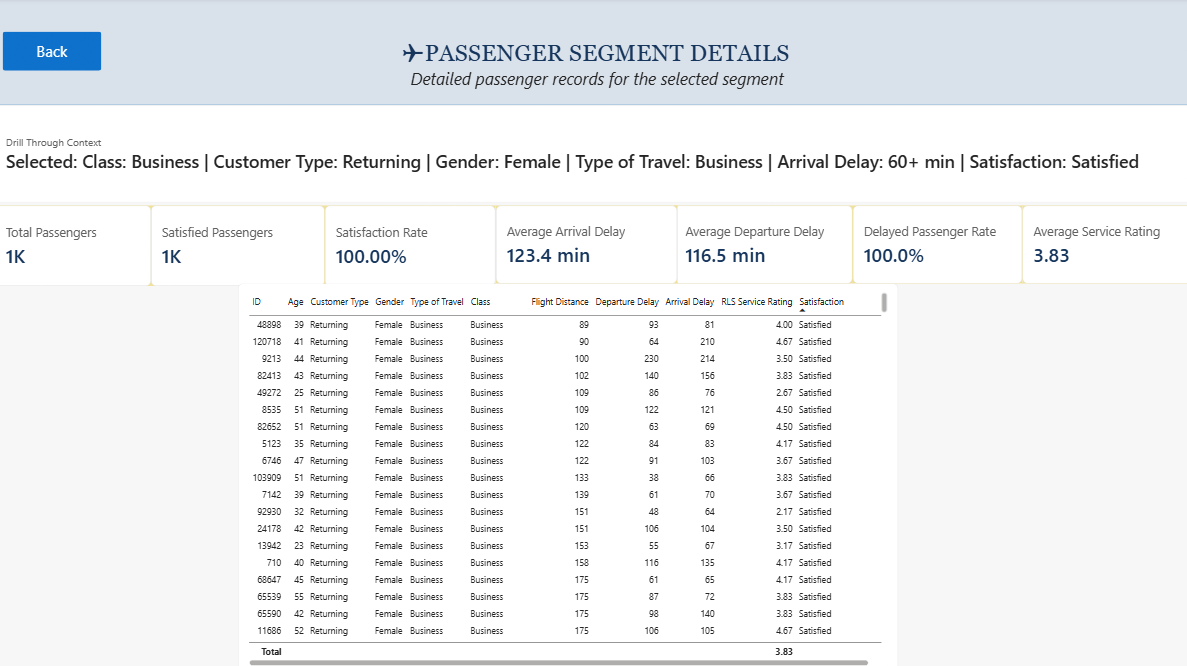

The dashboard page shown, as its layout file describes it:
{"tool":"powerbi","page":{"name":"Passenger Details","canvas":[1920,1080],"ordinal":5},"visuals":[{"type":"cardVisual","fields":{"Data":["Airline.Satisfied Passengers"]},"box":[257.7,331.6,276.7,128.1],"z":0},{"type":"cardVisual","fields":{"Data":["Airline.Average Departure Delay Display"]},"box":[1090.4,331.6,283.9,124.1],"z":1000},{"type":"shape","box":[9.5,0,1910,172.5],"z":2000},{"type":"textbox","box":[670.4,93.1,775.4,78.7],"z":3000},{"type":"actionButton","box":[22.5,55,157.5,62.5],"z":4000},{"type":"cardVisual","fields":{"Data":["Airline.Total Passengers"]},"box":[10.2,330.5,248.5,128.1],"z":5000},{"type":"cardVisual","fields":{"Data":["Airline.Satisfaction Rate"]},"box":[535.5,330.5,271.6,128.1],"z":6000},{"type":"cardVisual","fields":{"Data":["Airline.Average Arrival Delay Display"]},"box":[806.4,331.6,288.7,124.1],"z":7000},{"type":"cardVisual","fields":{"Data":["Airline.Delayed Passenger Rate"]},"box":[1374.3,331.6,269.6,124.1],"z":8000},{"type":"tableEx","fields":{"Values":["Airline.ID","Airline.Age","Airline.Customer Type","Airline.Gender","Airline.Type of Travel","Airline.Class","Airline.Flight Distance","Airline.Departure Delay","Airline.Arrival Delay","Airline.RLS Service Rating","Airline.Satisfaction"]},"box":[396.1,455.7,1049.8,625.1],"z":9000},{"type":"cardVisual","fields":{"Data":["Airline.RLS Service Rating"]},"box":[1643.9,331.6,269.6,124.1],"z":10000},{"type":"cardVisual","fields":{"Data":["Airline.Drill Through Context"]},"box":[9.5,171.8,1911.1,155.1],"z":11000}]}

Visuals, with their boxes in screenshot pixels (x1, y1, x2, y2), scaled from the page's 1920x1080 canvas onto the 1187x666 screenshot:
cardVisual - Airline.Satisfied Passengers: bbox=[159, 204, 330, 283]
cardVisual - Airline.Average Departure Delay Display: bbox=[674, 204, 850, 281]
shape: bbox=[6, 0, 1186, 106]
textbox: bbox=[414, 57, 894, 106]
actionButton: bbox=[14, 34, 111, 72]
cardVisual - Airline.Total Passengers: bbox=[6, 204, 160, 283]
cardVisual - Airline.Satisfaction Rate: bbox=[331, 204, 499, 283]
cardVisual - Airline.Average Arrival Delay Display: bbox=[499, 204, 677, 281]
cardVisual - Airline.Delayed Passenger Rate: bbox=[850, 204, 1016, 281]
tableEx - Airline.ID x Airline.Age: bbox=[245, 281, 894, 665]
cardVisual - Airline.RLS Service Rating: bbox=[1016, 204, 1183, 281]
cardVisual - Airline.Drill Through Context: bbox=[6, 106, 1186, 202]
